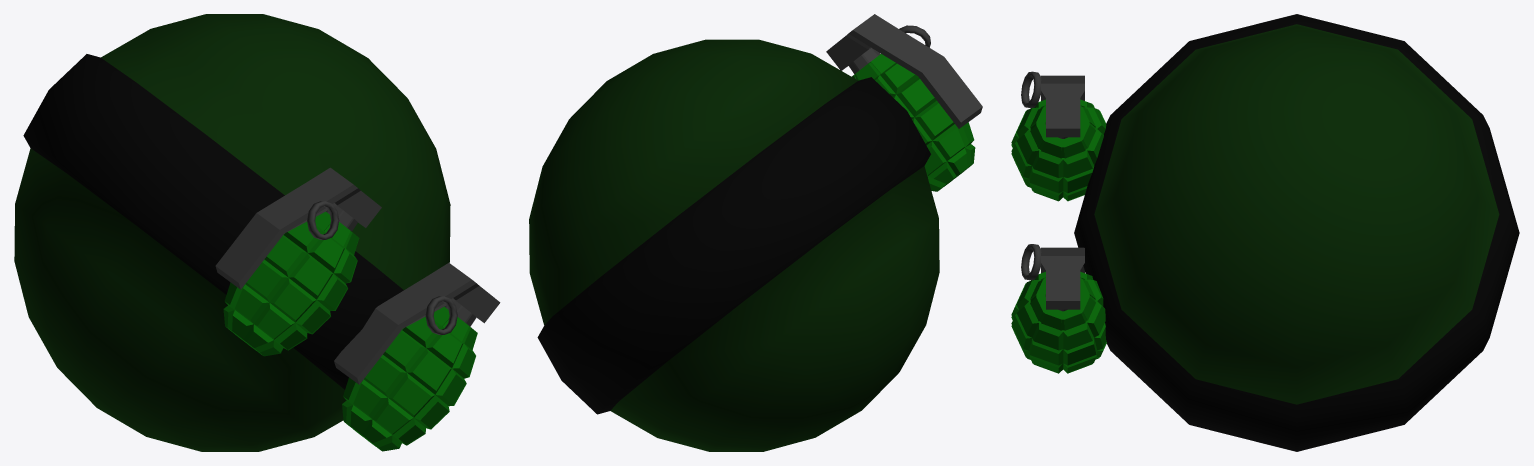
File: NLS_DUO Grenade Bandolier.fbx
The picture shows the model from 3 angles, left to right: view 1: azimuth 30°, elevation 25°; view 2: azimuth 150°, elevation 25°; view 3: azimuth 270°, elevation 25°; orthographic projection. The views are drawn at different scales.
Visible parts, largest first — view 1: NLS_DUO Grenade Bandolier; view 2: NLS_DUO Grenade Bandolier; view 3: NLS_DUO Grenade Bandolier.
Boxes of the visible parts, x1,y1,x2,y2 form: NLS_DUO Grenade Bandolier: (14,14,500,451); NLS_DUO Grenade Bandolier: (529,14,982,451); NLS_DUO Grenade Bandolier: (1011,14,1519,451).
Bounding box in the file's own units: 55.65 × 55.65 × 67.47.
